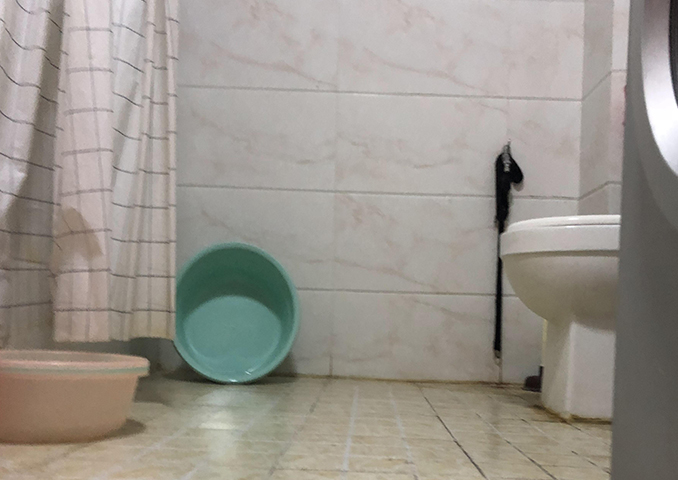closestool: (498, 212, 619, 422)
curtain: (1, 1, 179, 345)
